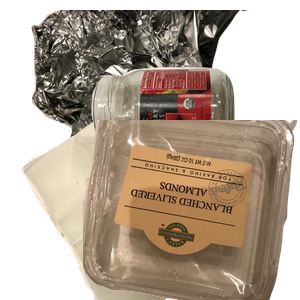glass: (89, 65, 300, 212)
metal: (29, 10, 269, 190)
plastic: (83, 120, 300, 300)
trash: (20, 120, 260, 300)
